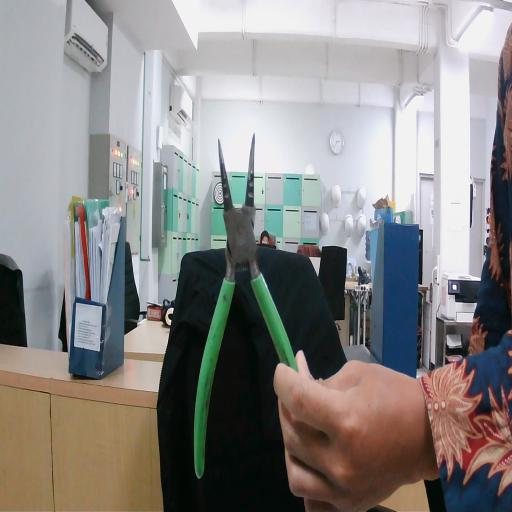tang_scun_hidrolik: (186, 138, 309, 486)
